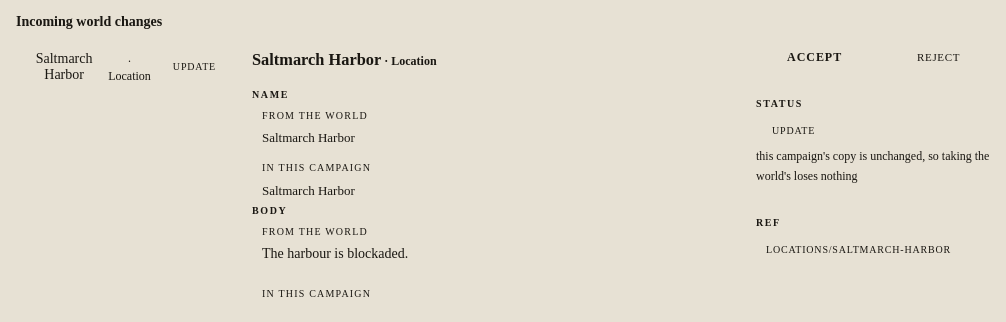
Test: a failed accept reports it and leaves the row in place
Click the button "Accept": (815, 57) [756,42,873,73]
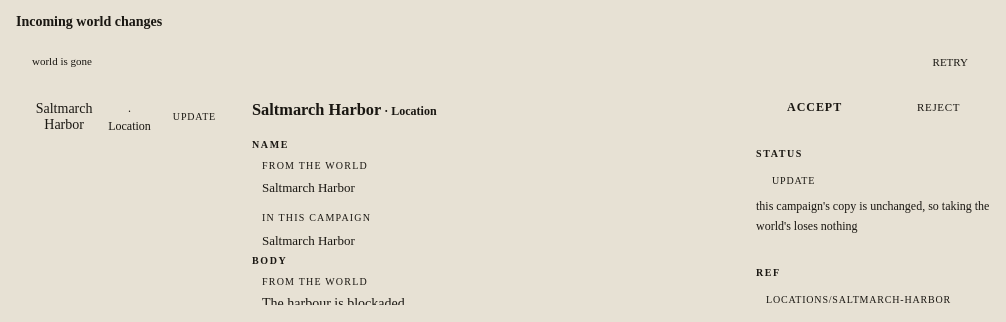
Expected: the button "Saltmarch Harbor · Location update" is shown, [16,92,236,142]
Expected: the text "world is gone" is shown, [32,52,92,71]
